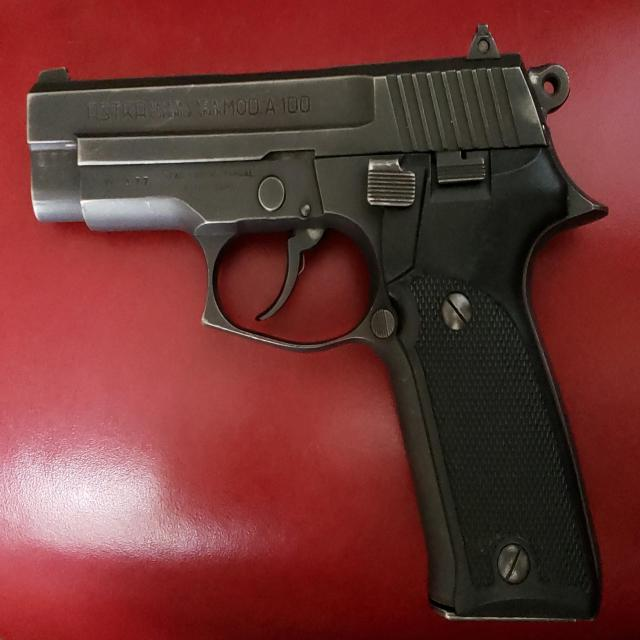pistol: (21, 21, 618, 632)
